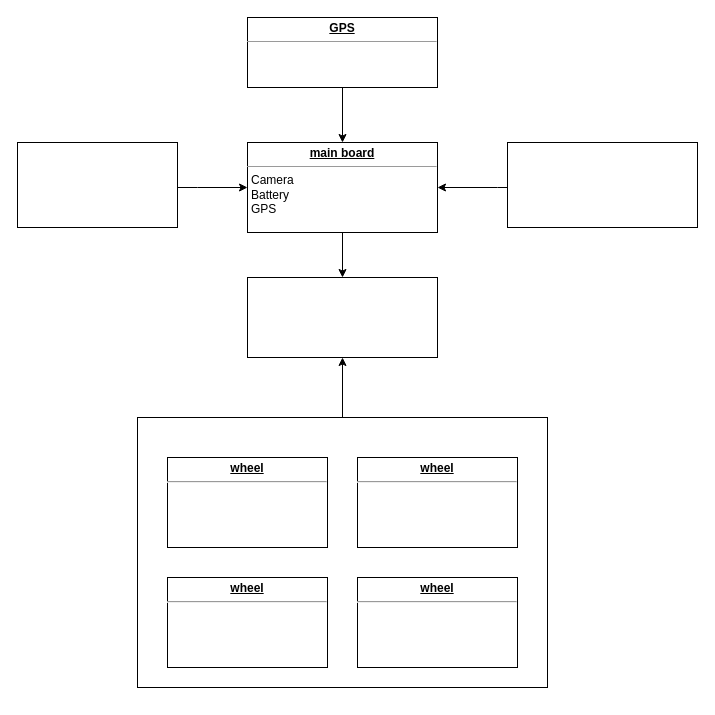
The diagram is 715 pixels wide and 715 high, and some of its shapes have lost their labels. Here are the shapes that lost their labels. From the top down, the box of each, then its label:
(16, 142, 178, 228): Battery
(506, 142, 698, 228): Camera
(246, 276, 438, 358): Robot Wheels main board
